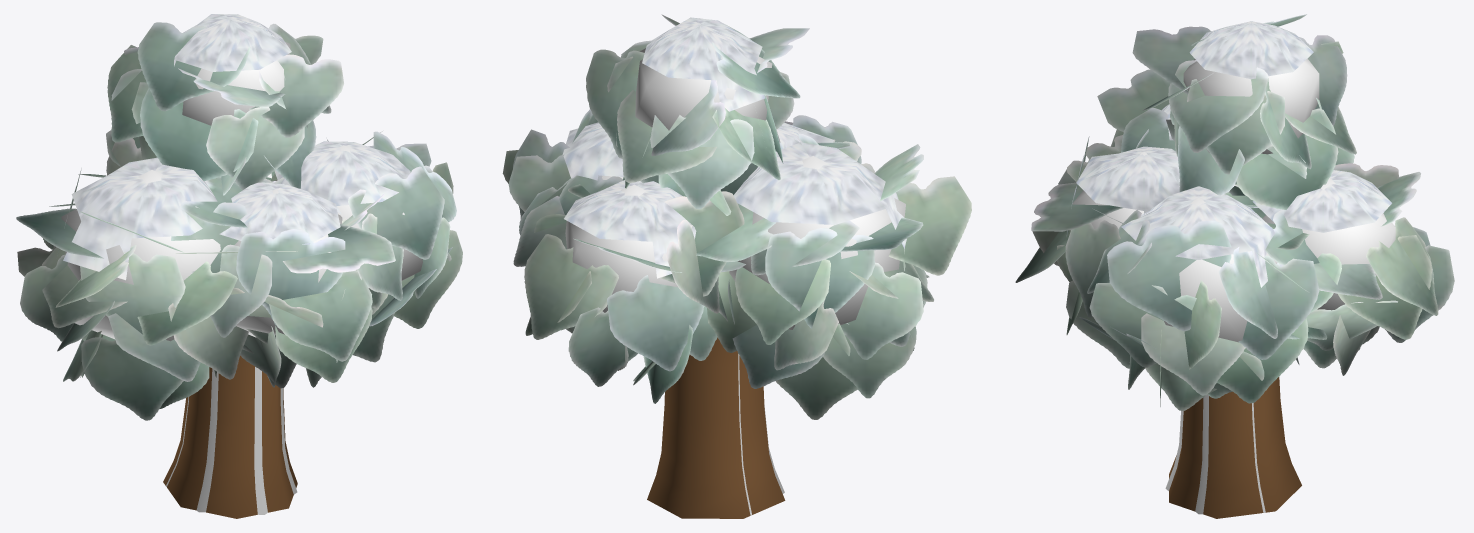
File: tree-round-winter.lod1.glb
3 renders of one model, left to right at view 1: azimuth 30°, elevation 25°; view 2: azimuth 150°, elevation 25°; view 3: azimuth 270°, elevation 25°, orthographic. The views are drawn at different scales.
Visible parts, largest first — view 1: Crown, Trunk, Hull, Stem; view 2: Crown, Trunk, Hull; view 3: Crown, Trunk, Hull, Stem.
Boxes of the visible parts, <box> form: Crown: <box>16,14,462,420</box>; Trunk: <box>163,355,297,518</box>; Hull: <box>61,42,422,341</box>; Stem: <box>166,367,297,514</box>; Crown: <box>502,14,971,419</box>; Trunk: <box>647,337,785,518</box>; Hull: <box>565,48,905,329</box>; Crown: <box>1015,14,1454,410</box>; Trunk: <box>1169,377,1301,518</box>; Hull: <box>1070,58,1395,342</box>; Stem: <box>1165,394,1265,514</box>.
Bounding box in the file's own units: 2.57 × 2.66 × 2.28.
Materials: 4 (1 with a texture image).
